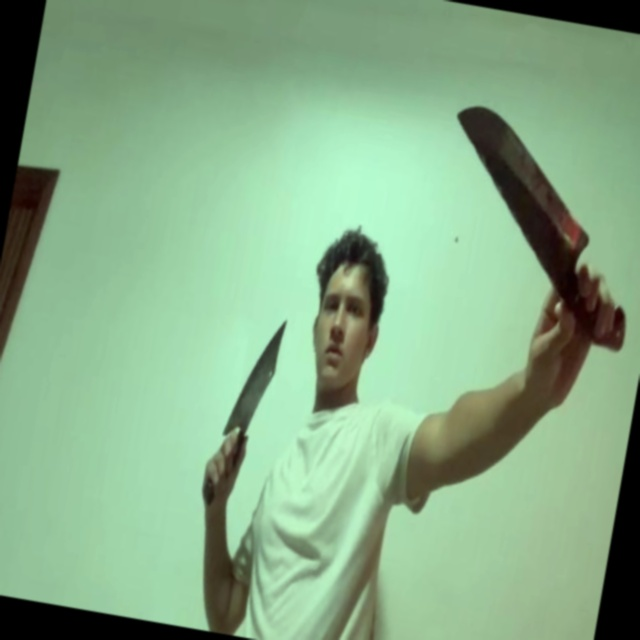Sharp-Object: (435, 103, 608, 271), (224, 313, 288, 440)
